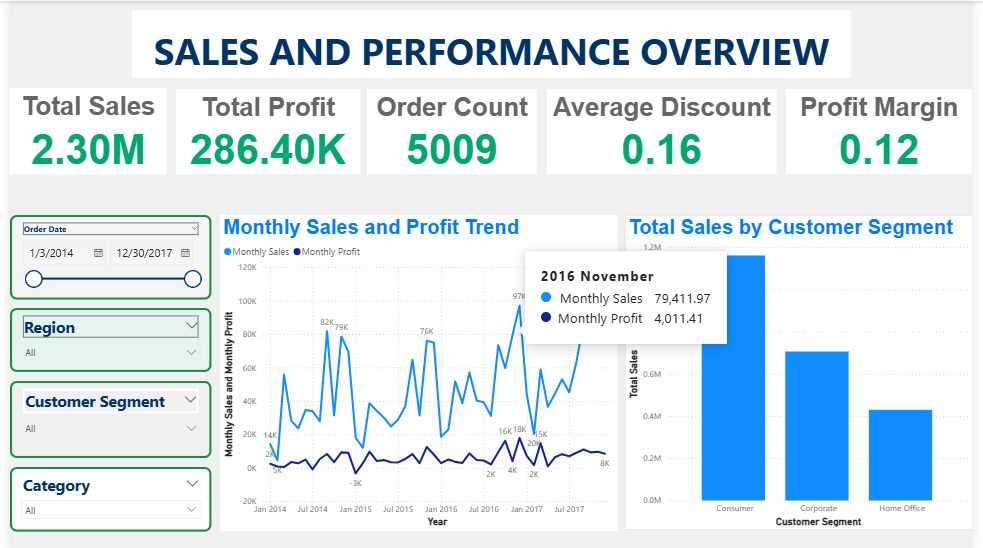

This screenshot's page, from the dashboard's own definition file:
{"tool":"powerbi","page":{"name":"Sales & Performance Overview","canvas":[1400,800],"ordinal":1},"visuals":[{"type":"textbox","box":[178,12.6,1045.7,99.2],"z":0},{"type":"card","title":"Total Sales","fields":{"Values":["Orders.Total Sales"]},"box":[0,126,228.3,126],"z":1000},{"type":"card","title":"Total Profit","fields":{"Values":["Orders.Total Profit"]},"box":[240.9,127.6,267.7,124.4],"z":2000},{"type":"card","title":"Order Count","fields":{"Values":["Orders.Order Count"]},"box":[519.7,127.6,247.2,124.4],"z":3000},{"type":"card","title":"Profit Margin","fields":{"Values":["Orders.Profit Margin"]},"box":[1129.1,127.6,270.9,124.4],"z":4000},{"type":"card","title":"Average Discount","fields":{"Values":["Orders.Average Discount"]},"box":[781.1,127.6,333.9,124.4],"z":5000},{"type":"lineChart","title":"Monthly Sales and Profit Trend","fields":{"Y":["Orders.Monthly Sales","Orders.Monthly Profit"],"Category":["Orders.Order Date.Variation.Date Hierarchy.Year","Orders.Order Date.Variation.Date Hierarchy.Month"]},"box":[305.5,311.8,578,459.8],"z":6000},{"type":"columnChart","fields":{"Category":["Customers.Customer Segment"],"Y":["Orders.Total Sales"]},"box":[894.5,311.8,505.5,458.3],"z":7000},{"type":"slicer","fields":{"Values":["Orders.Order Date"]},"box":[0,311.8,292.9,122.8],"z":8000},{"type":"slicer","fields":{"Values":["States.Region"]},"box":[0,447.2,292.9,92.9],"z":9000},{"type":"slicer","fields":{"Values":["Customers.Customer Segment"]},"box":[0,552.8,292.9,111.8],"z":10000},{"type":"slicer","fields":{"Values":["Products.Category"]},"box":[0,677.2,292.9,94.5],"z":11000}]}

Visuals, with their boxes in screenshot pixels (x1, y1, x2, y2), scaled from the page's 1400x800 canvas onto the 983x548 screenshot:
textbox: box(125, 9, 859, 77)
"Total Sales" card: box(0, 86, 160, 173)
"Total Profit" card: box(169, 87, 357, 173)
"Order Count" card: box(365, 87, 538, 173)
"Profit Margin" card: box(793, 87, 982, 173)
"Average Discount" card: box(548, 87, 783, 173)
"Monthly Sales and Profit Trend" lineChart: box(215, 214, 620, 529)
columnChart - Customers.Customer Segment x Orders.Total Sales: box(628, 214, 982, 528)
slicer - Orders.Order Date: box(0, 214, 206, 298)
slicer - States.Region: box(0, 306, 206, 370)
slicer - Customers.Customer Segment: box(0, 379, 206, 455)
slicer - Products.Category: box(0, 464, 206, 529)
